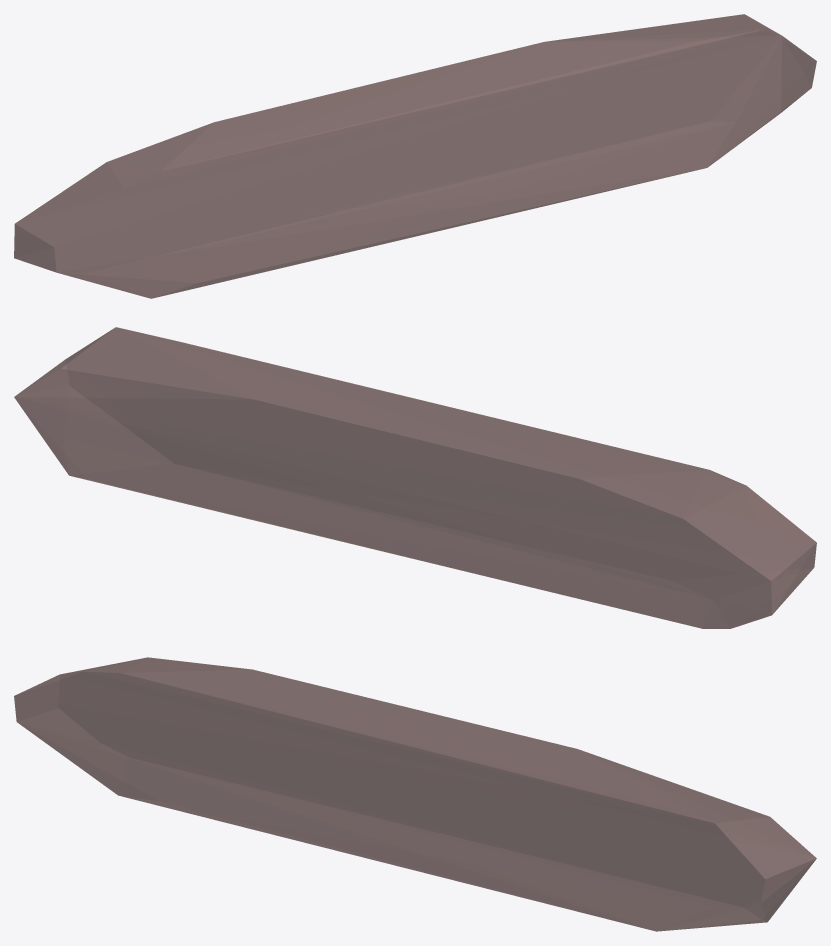
The picture shows the model from 3 angles, top to bottom: view 1: azimuth 30°, elevation 25°; view 2: azimuth 150°, elevation 25°; view 3: azimuth 330°, elevation 25°; orthographic projection.
Parts seen in each view (by area): view 1: Shape_IndexedFaceSet.150_Shape_IndexedFaceSet.579; view 2: Shape_IndexedFaceSet.150_Shape_IndexedFaceSet.579; view 3: Shape_IndexedFaceSet.150_Shape_IndexedFaceSet.579.
Boxes of the visible parts, bbox=[...] form: Shape_IndexedFaceSet.150_Shape_IndexedFaceSet.579: bbox=[14, 14, 816, 298]; Shape_IndexedFaceSet.150_Shape_IndexedFaceSet.579: bbox=[14, 327, 816, 628]; Shape_IndexedFaceSet.150_Shape_IndexedFaceSet.579: bbox=[14, 657, 816, 931].
Bounding box in the file's own units: 0.3856 × 0.0612 × 0.0382.
